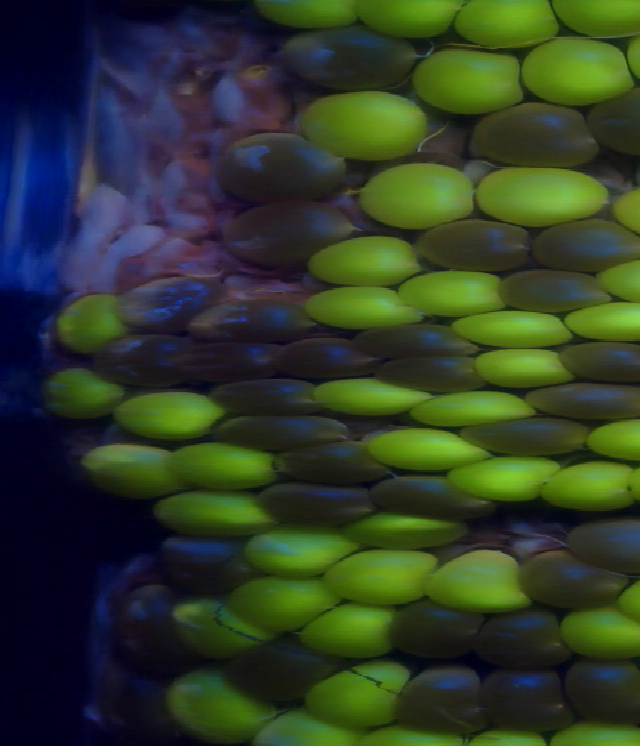fluorescent: (165, 661, 264, 741), (296, 90, 425, 151), (521, 40, 637, 105), (147, 481, 284, 536), (415, 46, 527, 112), (426, 544, 532, 613), (477, 164, 603, 222), (359, 163, 474, 226), (83, 439, 189, 507), (307, 661, 415, 722), (226, 575, 338, 633), (411, 379, 534, 429), (171, 597, 277, 655), (112, 390, 232, 441), (331, 545, 437, 602), (300, 285, 423, 334), (302, 600, 400, 660), (173, 439, 283, 489), (397, 271, 510, 319), (460, 302, 570, 351), (365, 426, 487, 469), (451, 1, 555, 51), (343, 508, 473, 547), (455, 452, 555, 501), (311, 244, 422, 288), (253, 529, 359, 574), (36, 370, 125, 422), (543, 462, 634, 511), (475, 346, 574, 390), (255, 705, 361, 746), (310, 375, 427, 412), (565, 605, 640, 661), (55, 296, 130, 351), (361, 1, 465, 38), (245, 1, 362, 33), (564, 303, 640, 347), (553, 1, 640, 39), (582, 416, 640, 471), (359, 725, 489, 746), (550, 720, 640, 746), (598, 257, 640, 306)
nonfluorescent: (476, 101, 606, 166), (92, 659, 186, 746), (223, 201, 363, 259), (283, 26, 421, 83), (116, 589, 200, 681), (225, 632, 340, 699), (222, 134, 347, 195), (517, 551, 634, 614), (387, 666, 491, 736), (480, 662, 573, 732), (269, 442, 404, 489), (529, 219, 640, 272), (470, 608, 571, 666), (562, 653, 640, 727), (370, 472, 499, 515), (390, 601, 487, 658), (418, 222, 533, 269), (93, 339, 207, 386), (461, 417, 603, 453), (244, 482, 378, 520), (160, 538, 261, 588), (353, 323, 489, 358), (211, 373, 327, 414), (216, 415, 358, 446), (114, 282, 223, 322), (171, 341, 287, 378), (376, 355, 491, 392), (526, 384, 640, 421), (196, 302, 314, 335), (504, 272, 612, 308), (279, 340, 377, 379), (567, 518, 640, 569), (551, 343, 640, 380), (585, 91, 640, 143)
